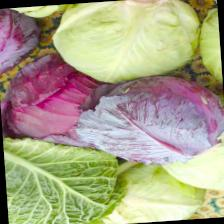cabbage: (70, 70, 224, 170), (48, 0, 203, 88), (1, 129, 130, 224)
